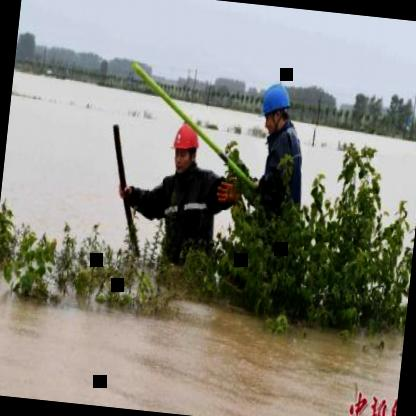helmet: (256, 79, 296, 138), (168, 121, 203, 176)
